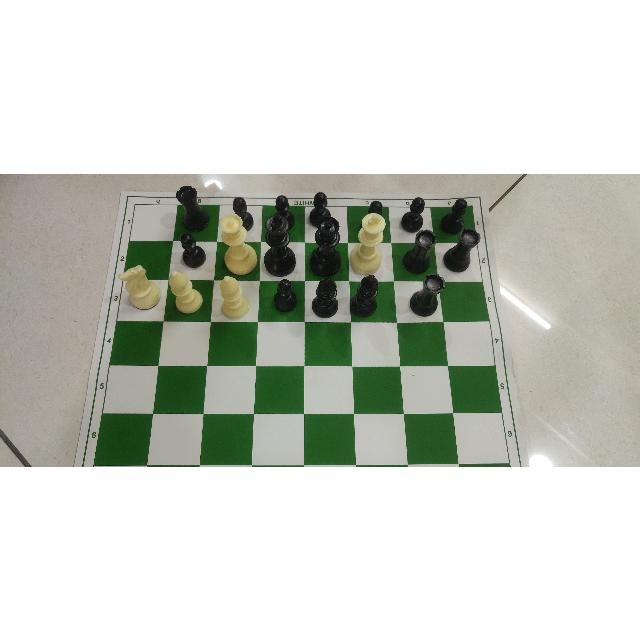black-bishop: (350, 273, 380, 315), (311, 277, 339, 317)
black-king: (263, 211, 297, 276)
black-pawn: (179, 232, 206, 266), (272, 279, 297, 313), (401, 196, 425, 231), (443, 198, 467, 232), (309, 190, 330, 224), (233, 196, 254, 228), (274, 192, 293, 223), (369, 198, 383, 213)
black-queen: (309, 216, 342, 275)
black-rook: (443, 227, 481, 271), (174, 184, 209, 230), (409, 271, 444, 314), (403, 229, 437, 271)
white-bishop: (168, 269, 203, 313), (219, 275, 251, 317)
white-king: (348, 212, 385, 272)
white-knight: (118, 265, 162, 309)
white-queen: (218, 214, 257, 272)
